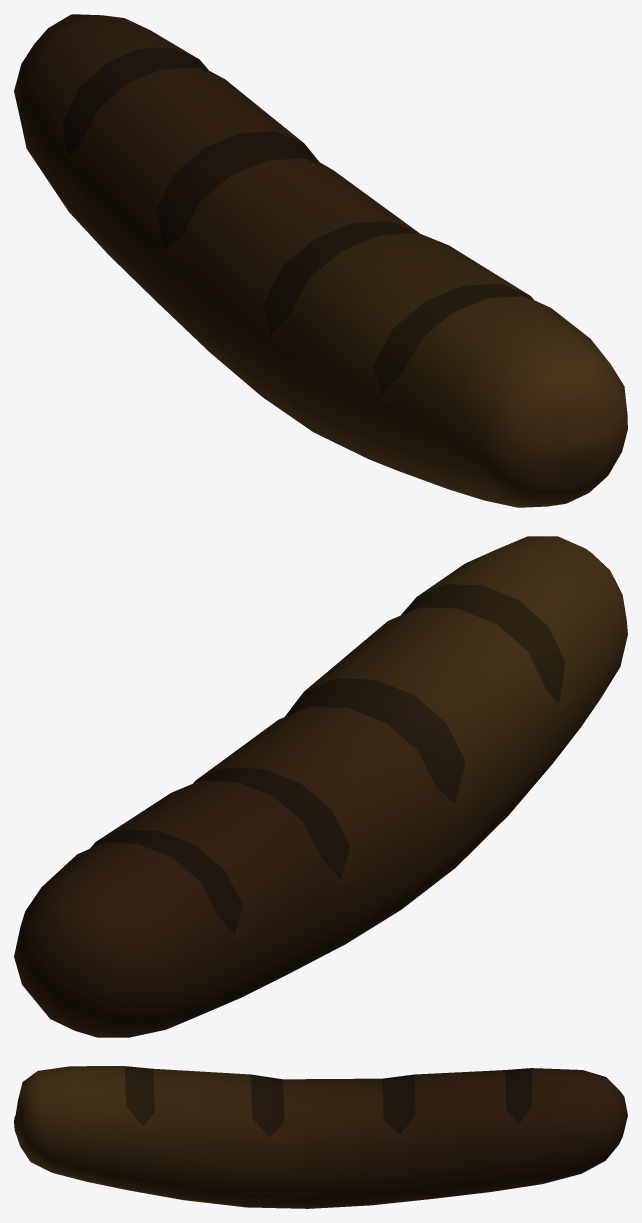
File: Sausage_Grilled.fbx
The picture shows the model from 3 angles, top to bottom: view 1: azimuth 30°, elevation 25°; view 2: azimuth 150°, elevation 25°; view 3: azimuth 270°, elevation 25°; orthographic projection. The views are drawn at different scales.
Parts seen in each view (by area): view 1: Sausage_Grilled; view 2: Sausage_Grilled; view 3: Sausage_Grilled.
Part boxes in pixels (<box>): Sausage_Grilled: <box>14,14,627,507</box>; Sausage_Grilled: <box>14,536,627,1037</box>; Sausage_Grilled: <box>14,1066,627,1208</box>.
Bounding box in the file's own units: 12.79 × 14.06 × 60.08.
